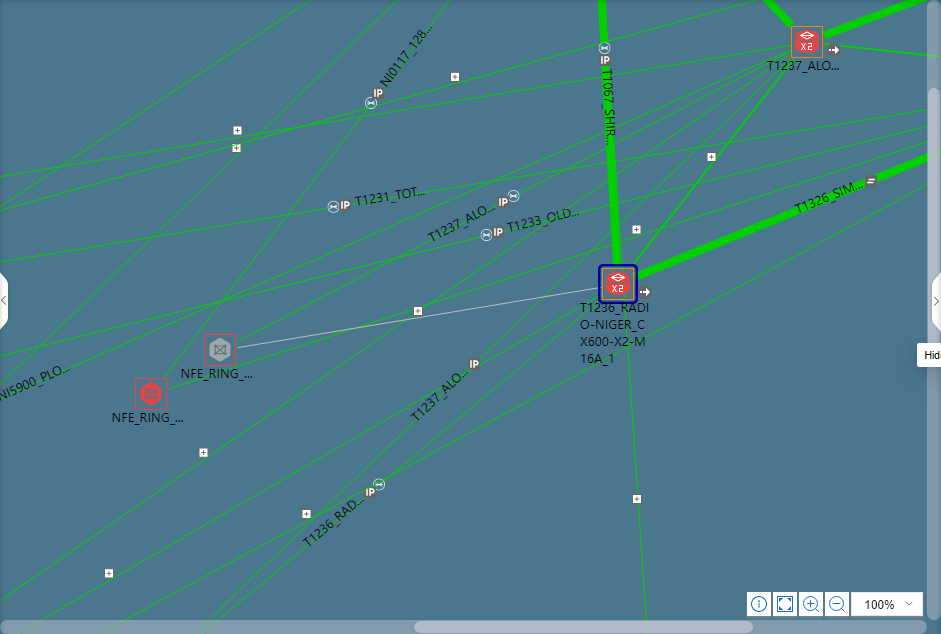Link_Gray: (237, 286, 598, 349)
Link_Green: (1, 53, 789, 603), (126, 182, 928, 618), (206, 59, 790, 620), (0, 124, 929, 358), (170, 140, 928, 390), (39, 294, 599, 620), (237, 51, 790, 343), (0, 0, 758, 213), (0, 2, 402, 391), (1, 107, 928, 264), (217, 299, 599, 620), (165, 0, 453, 376), (0, 44, 786, 179), (639, 152, 928, 281), (632, 60, 796, 264), (622, 303, 649, 620), (596, 0, 623, 263), (823, 0, 930, 38), (824, 43, 940, 60), (760, 0, 795, 28)
Router_Red: (603, 272, 632, 300), (792, 28, 820, 56)
